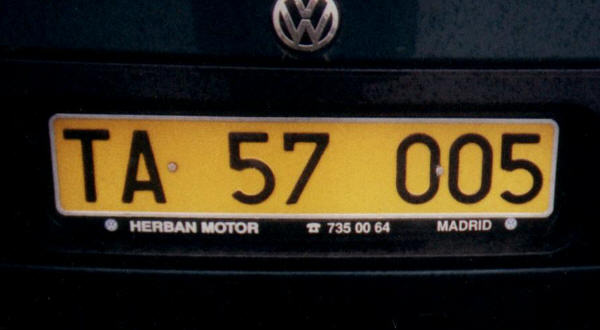license_plate: (49, 115, 558, 217)
